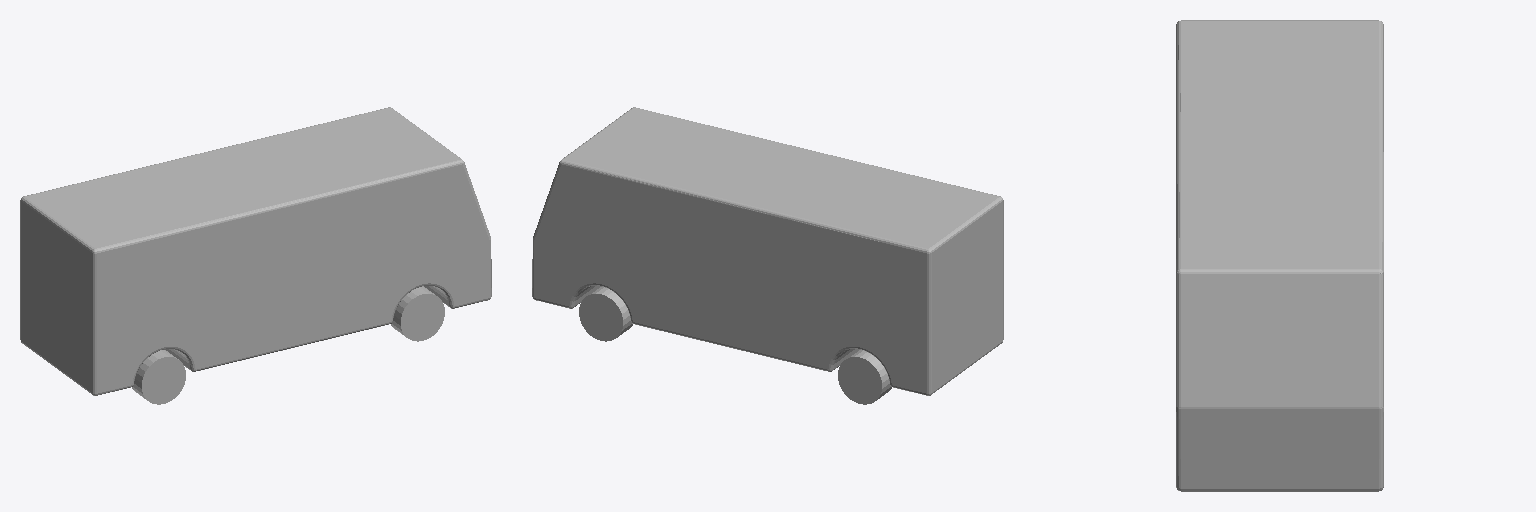
robot.urdf — liesse_model:
<?xml version="1.0" encoding="utf-8"?>
<!-- This URDF was automatically created by SolidWorks to URDF Exporter! Originally created by [author] ([email redacted]) 
     Commit Version: 1.5.1-0-g916b5db  Build Version: 1.5.7152.31018
     For more information, please see http://wiki.ros.org/sw_urdf_exporter -->
<robot
  name="liesse_model">
  <link
    name="base_link">
    <inertial>
      <origin
        xyz="1.96445081530802 -1.62935442915568E-10 1.10680987964632"
        rpy="0 0 0" />
      <mass
        value="26585.0676830834" />
      <inertia
        ixx="19143.6580012146"
        ixy="4.36470507544908E-06"
        ixz="1075.51216103307"
        iyy="90018.8982683709"
        iyz="3.64388262213172E-06"
        izz="89502.679363736" />
    </inertial>
    <visual>
      <origin
        xyz="0 0 0"
        rpy="0 0 0" />
      <geometry>
        <mesh
          filename="package://liesse_model/meshes/base_link.STL" />
      </geometry>
      <material
        name="">
        <color
          rgba="0.752941176470588 0.752941176470588 0.752941176470588 1" />
      </material>
    </visual>
    <collision>
      <origin
        xyz="0 0 0"
        rpy="0 0 0" />
      <geometry>
        <mesh
          filename="package://liesse_model/meshes/base_link.STL" />
      </geometry>
    </collision>
  </link>
</robot>

--- Facts derived from the render (not from the file) ---
Views: 3 orthographic renders of the robot side by side, from view 1: azimuth 30°, elevation 25°; view 2: azimuth 150°, elevation 25°; view 3: azimuth 270°, elevation 25°.
Model liesse_model with 1 links and 0 joints (none), rooted at base_link, posed all joints at 0.
Visible links, largest first — view 1: base_link; view 2: base_link; view 3: base_link.
Link boxes in pixels (x1=…): base_link: x1=20, y1=107, x2=491, y2=404; base_link: x1=532, y1=107, x2=1003, y2=404; base_link: x1=1176, y1=20, x2=1383, y2=491.
Bounding box of the posed robot: 6.25 × 2.03 × 2.55 m (x, y, z).
1 mesh visuals loaded from 1 distinct referenced files (1 binary STL).
